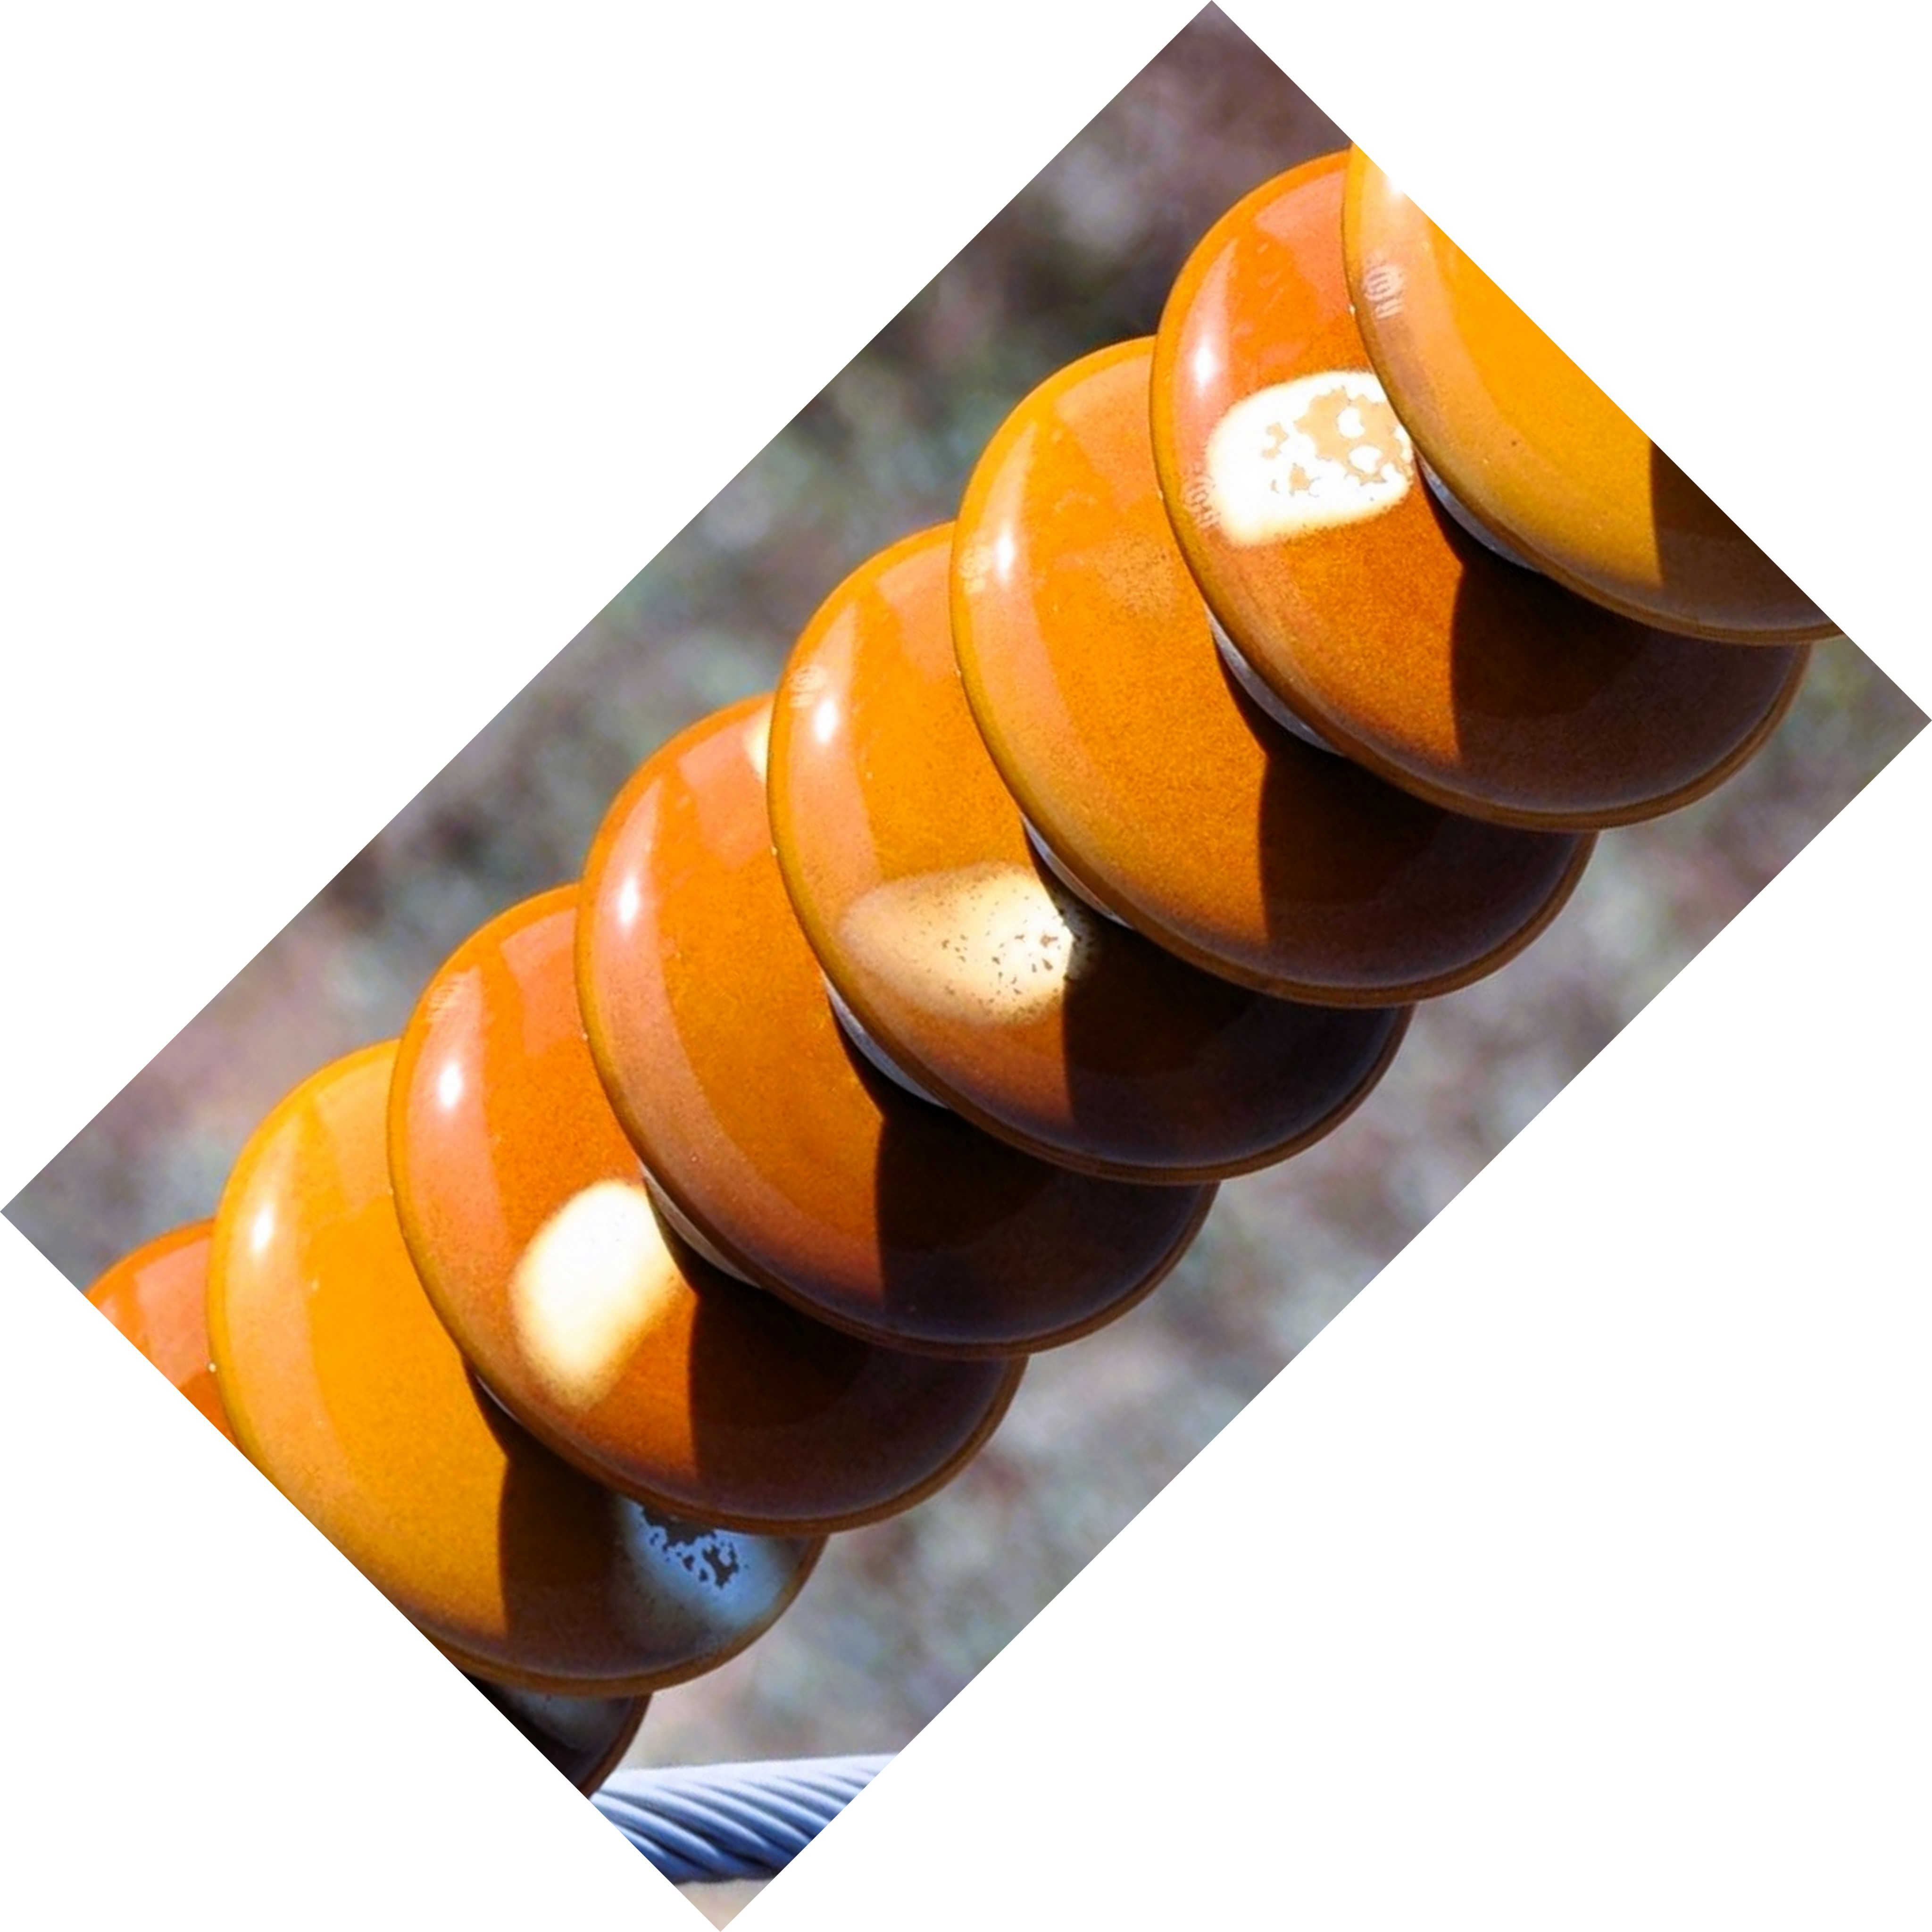Insulator flashover: (1132, 136, 1815, 833), (375, 902, 1054, 1507)
